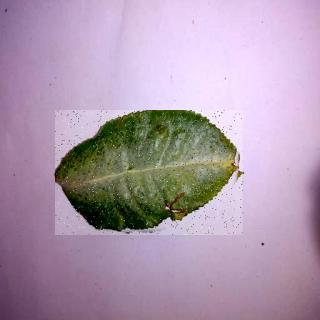Anthracnose: (57, 111, 245, 236)
